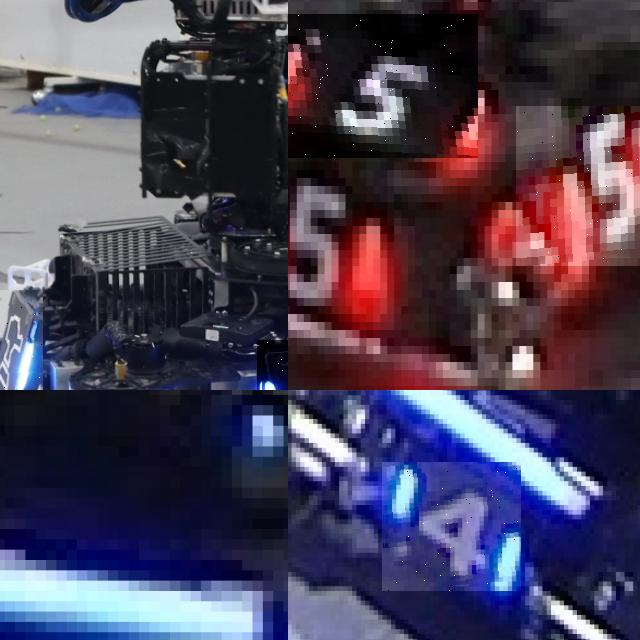B4: (382, 462, 521, 591)
Bs: (0, 290, 42, 390)
R5: (288, 14, 477, 158), (516, 106, 640, 266), (288, 146, 391, 306)
